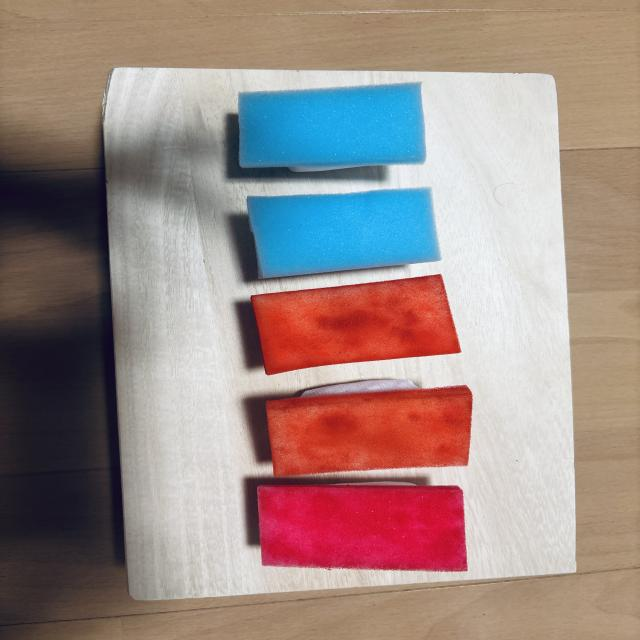ika: (247, 188, 440, 277), (239, 83, 426, 172)
maguro: (258, 484, 467, 571)
salmon: (251, 275, 460, 375), (267, 379, 472, 475)
